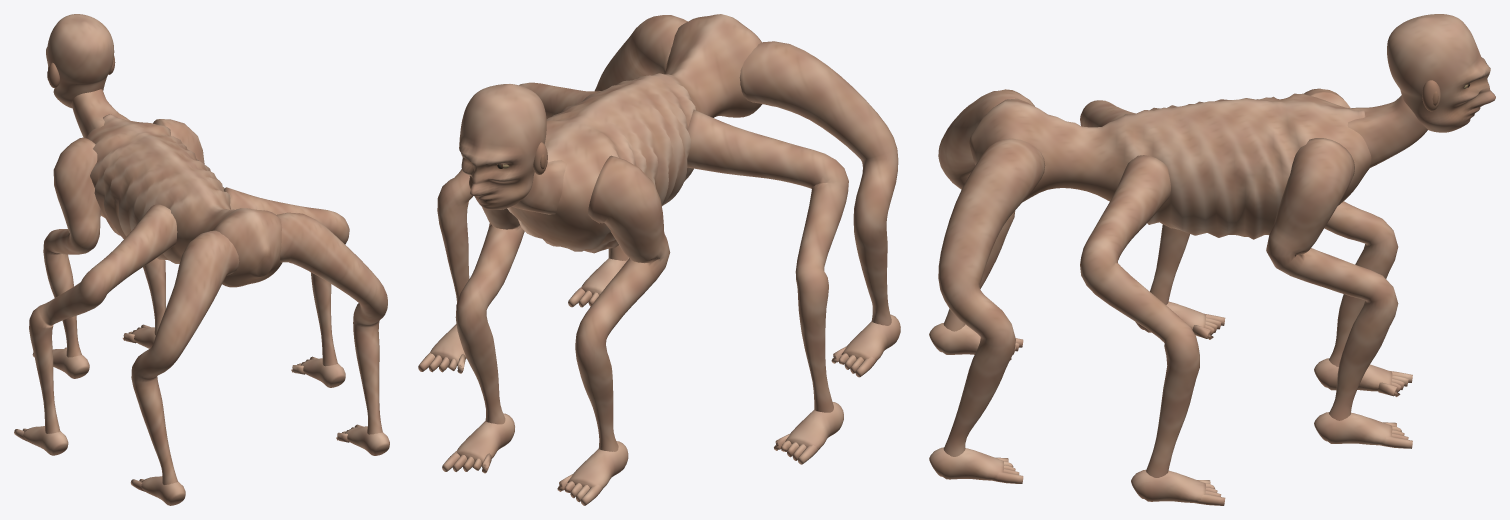
3 views of the same model, side by side, from view 1: azimuth 30°, elevation 25°; view 2: azimuth 150°, elevation 25°; view 3: azimuth 270°, elevation 25° (orthographic). The views are drawn at different scales.
Bounding box in the file's own units: 1.55 × 1.55 × 2.01.
1 material, 1 textured.
